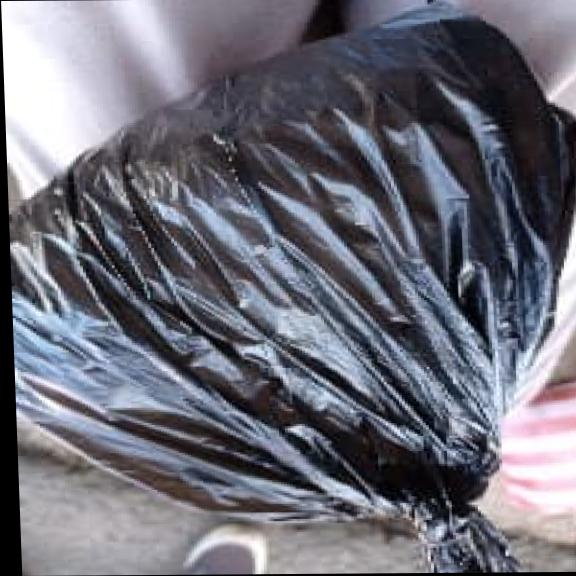Plastik: (16, 19, 573, 573)
